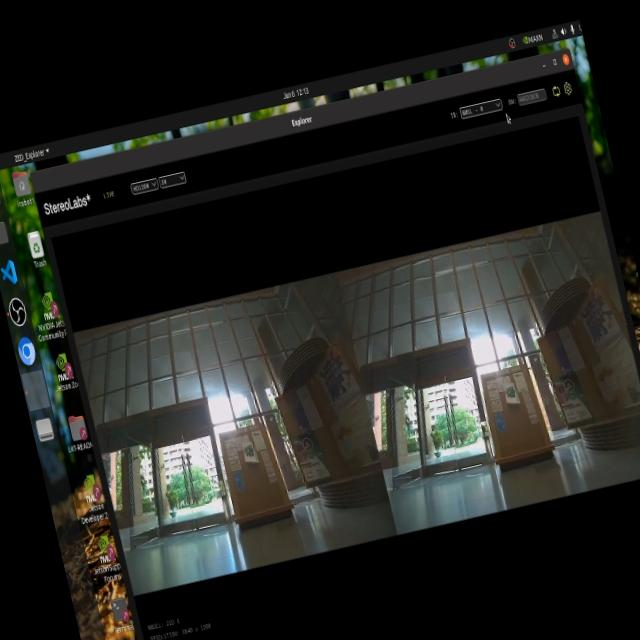green: (239, 438, 257, 464), (500, 382, 518, 407)
